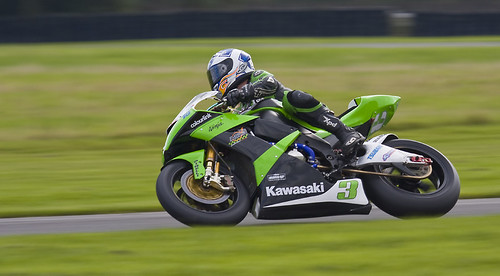helmet: (200, 43, 255, 92)
